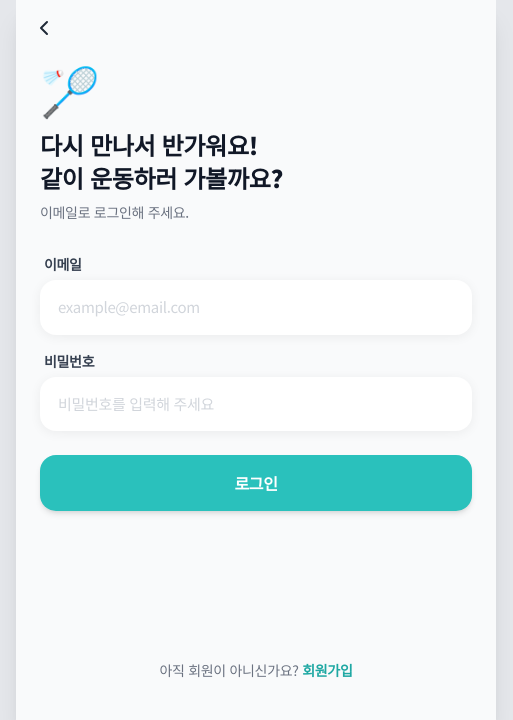
로그인 실패 시 서버 에러 메시지를 보여준다
The width and height of the screenshot is (513, 720).
Type "a@b.com" into the field labelled "이메일". click: point(256, 307)
box: [40,280,472,334]
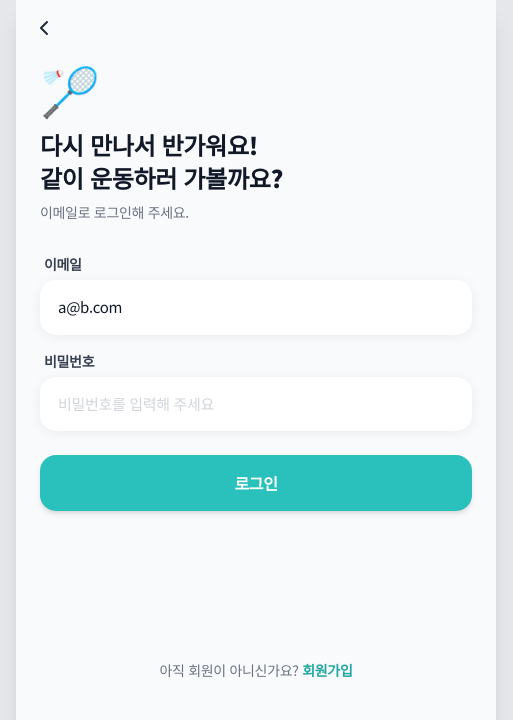
Type "wrongpass" into the password field labelled "비밀번호". click: point(256, 404)
box: [40,376,472,431]
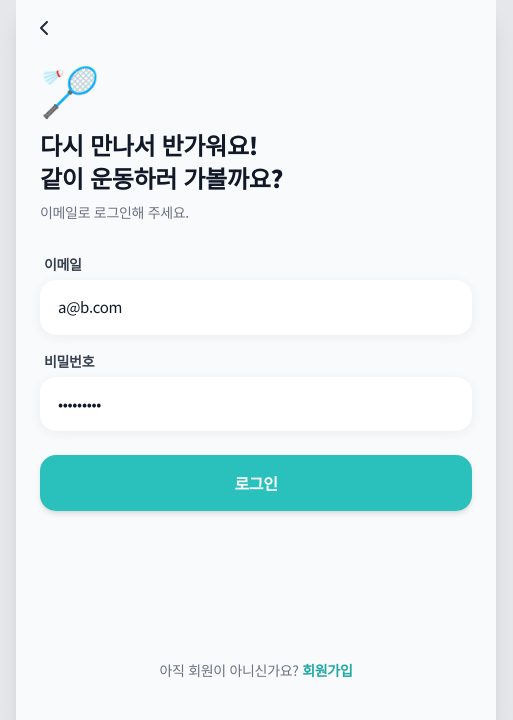
Click the button "로그인". click: point(256, 483)
box: [40,455,472,511]
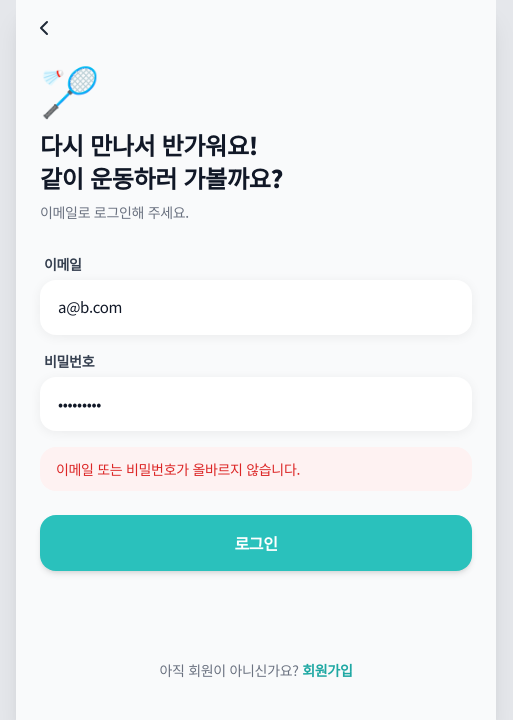
Result: the message reads "이메일 또는 비밀번호가 올바르지 않습니다." at [56,459,300,479]
